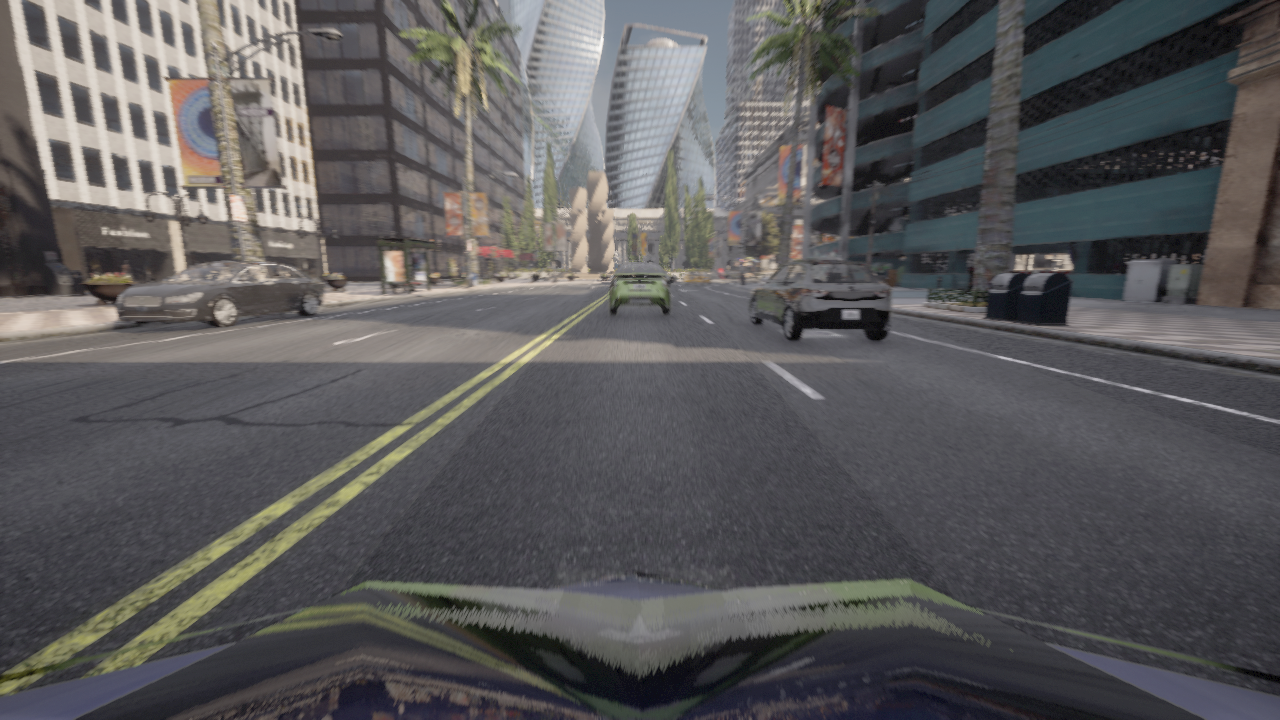cyclist: (0, 569, 1279, 719), (116, 261, 323, 327), (748, 259, 891, 340), (609, 263, 670, 314), (683, 270, 711, 285), (664, 272, 676, 284)
